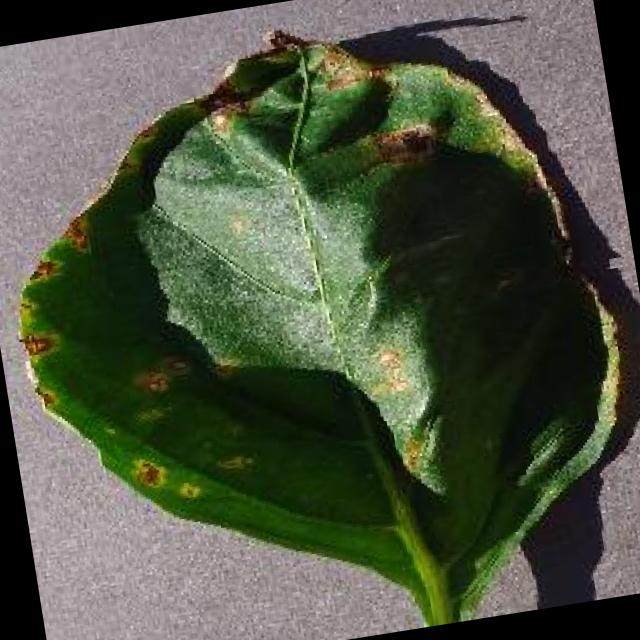Chilli_Bacterial_Spot: (0, 0, 640, 640), (0, 194, 265, 537), (108, 336, 264, 517), (124, 446, 207, 514), (368, 117, 444, 172), (370, 341, 416, 399), (391, 426, 431, 480), (55, 210, 94, 260), (126, 398, 172, 437), (210, 444, 258, 481), (126, 454, 170, 494), (15, 325, 55, 363), (138, 364, 175, 401), (156, 348, 195, 383), (24, 252, 63, 285), (170, 476, 204, 508), (372, 343, 404, 377), (205, 356, 241, 386), (34, 382, 62, 413)
